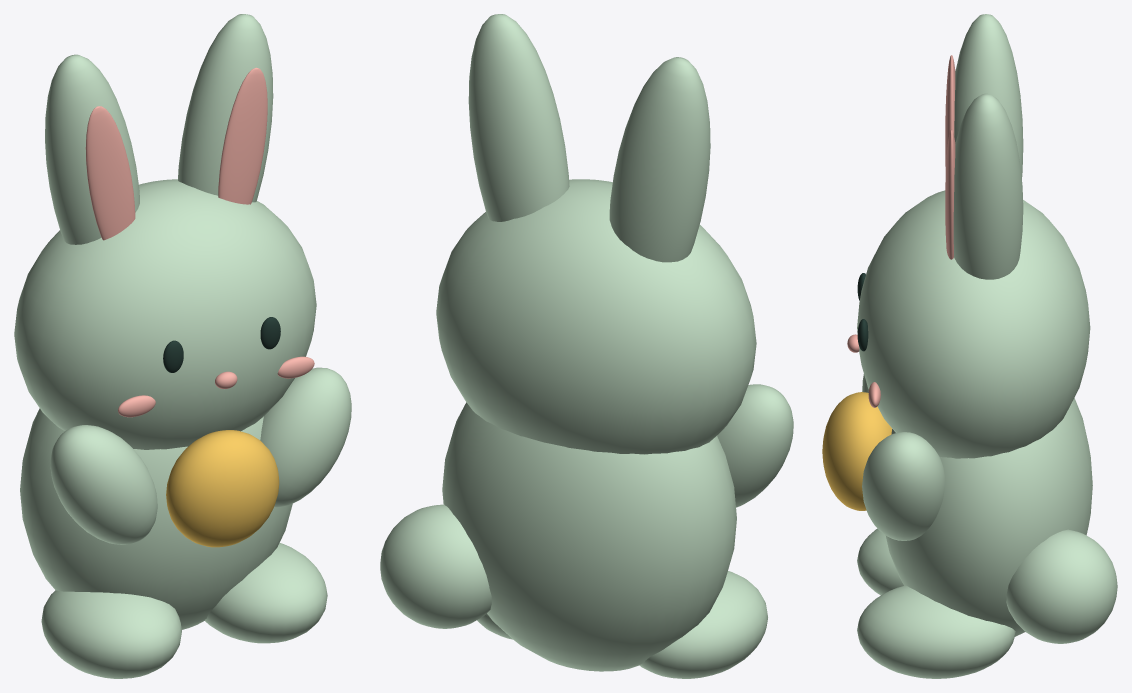
The model's file is moon-bunny.glb.
3 views of the same model, side by side, from view 1: azimuth 30°, elevation 25°; view 2: azimuth 150°, elevation 25°; view 3: azimuth 270°, elevation 25° (orthographic). The views are drawn at different scales.
Visible parts, largest first — view 1: Head, Round body, Sun held between paws, Tiny foot, Little arm, Long ear, Long ear.001, Little arm.001, Tiny foot.001, Velvet inner ear, Velvet inner ear.001, Blush (+3 smaller); view 2: Head, Round body, Long ear, Long ear.001, Cotton tail, Tiny foot, Little arm; view 3: Head, Round body, Long ear.001, Tiny foot.001, Cotton tail, Little arm.001, Long ear, Sun held between paws, Tiny foot, Velvet inner ear.001, Velvet inner ear.
Boxes of the visible parts, bbox=[...] form: Head: bbox=[14, 179, 316, 449]; Round body: bbox=[20, 408, 292, 629]; Sun held between paws: bbox=[166, 430, 279, 547]; Tiny foot: bbox=[41, 590, 181, 678]; Little arm: bbox=[50, 425, 157, 544]; Long ear: bbox=[45, 54, 139, 244]; Long ear.001: bbox=[178, 14, 273, 202]; Little arm.001: bbox=[260, 367, 351, 507]; Tiny foot.001: bbox=[205, 543, 327, 643]; Velvet inner ear: bbox=[85, 106, 135, 240]; Velvet inner ear.001: bbox=[218, 67, 267, 204]; Blush: bbox=[118, 395, 155, 417]; Head: bbox=[436, 179, 756, 454]; Round body: bbox=[442, 402, 736, 671]; Long ear: bbox=[609, 57, 710, 262]; Long ear.001: bbox=[468, 14, 569, 221]; Cotton tail: bbox=[380, 504, 491, 628]; Tiny foot: bbox=[639, 571, 767, 678]; Little arm: bbox=[717, 384, 793, 507]; Head: bbox=[857, 190, 1090, 458]; Round body: bbox=[885, 398, 1092, 636]; Long ear.001: bbox=[953, 93, 1023, 279]; Tiny foot.001: bbox=[857, 585, 1015, 678]; Cotton tail: bbox=[1006, 529, 1117, 643]; Little arm.001: bbox=[862, 432, 944, 540]; Long ear: bbox=[954, 14, 1023, 178]; Sun held between paws: bbox=[822, 392, 892, 510]; Tiny foot: bbox=[857, 528, 903, 595]; Velvet inner ear.001: bbox=[945, 129, 955, 259]; Velvet inner ear: bbox=[945, 55, 955, 172].
Size of the model in its own units: 1.35 by 2.58 by 1.19.
